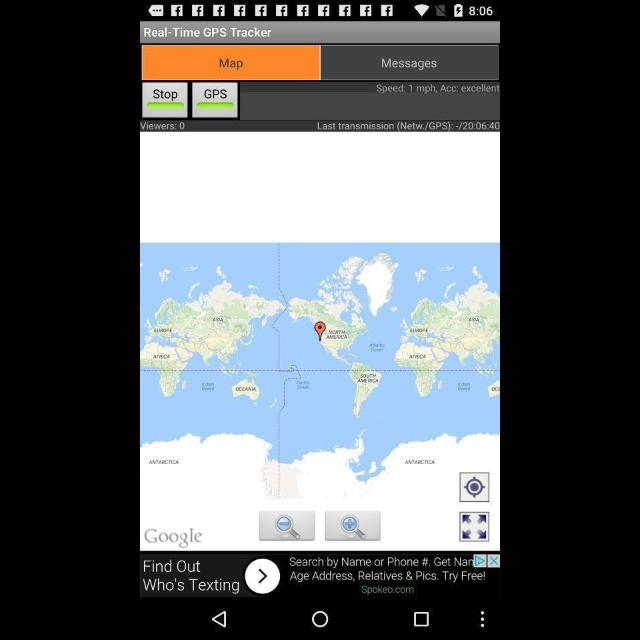icon: (325, 510, 379, 540), (260, 512, 314, 540), (460, 473, 490, 502), (460, 512, 488, 542), (212, 610, 228, 628), (312, 612, 328, 628), (414, 611, 428, 625), (478, 608, 486, 630)
iframe: (140, 553, 500, 599)
map: (141, 243, 499, 551)
multitab: (140, 42, 500, 80)
panel: (140, 601, 500, 639), (140, 22, 500, 42)
text: (315, 122, 499, 132), (145, 26, 273, 38), (375, 84, 499, 96), (140, 118, 186, 132), (203, 88, 229, 100), (153, 90, 179, 100)
textbutton: (140, 82, 190, 120), (192, 82, 238, 118)
uppertaskbar: (140, 0, 500, 20)
